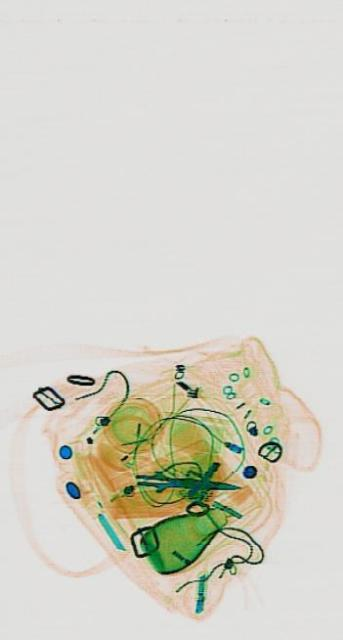Knife: (134, 468, 239, 497)
